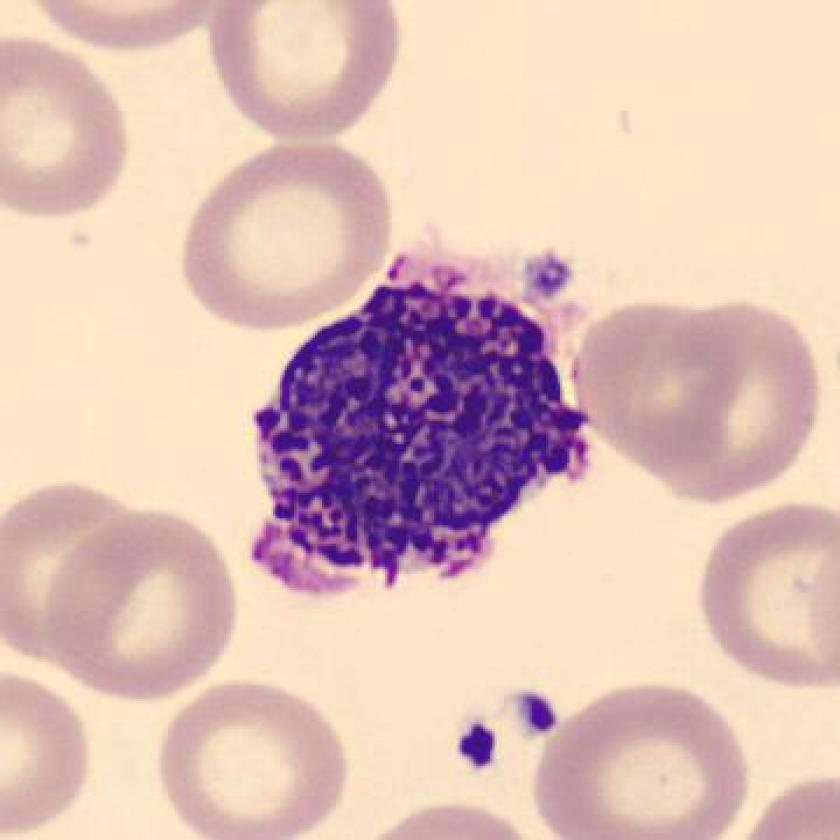basophil: (237, 286, 591, 600)
